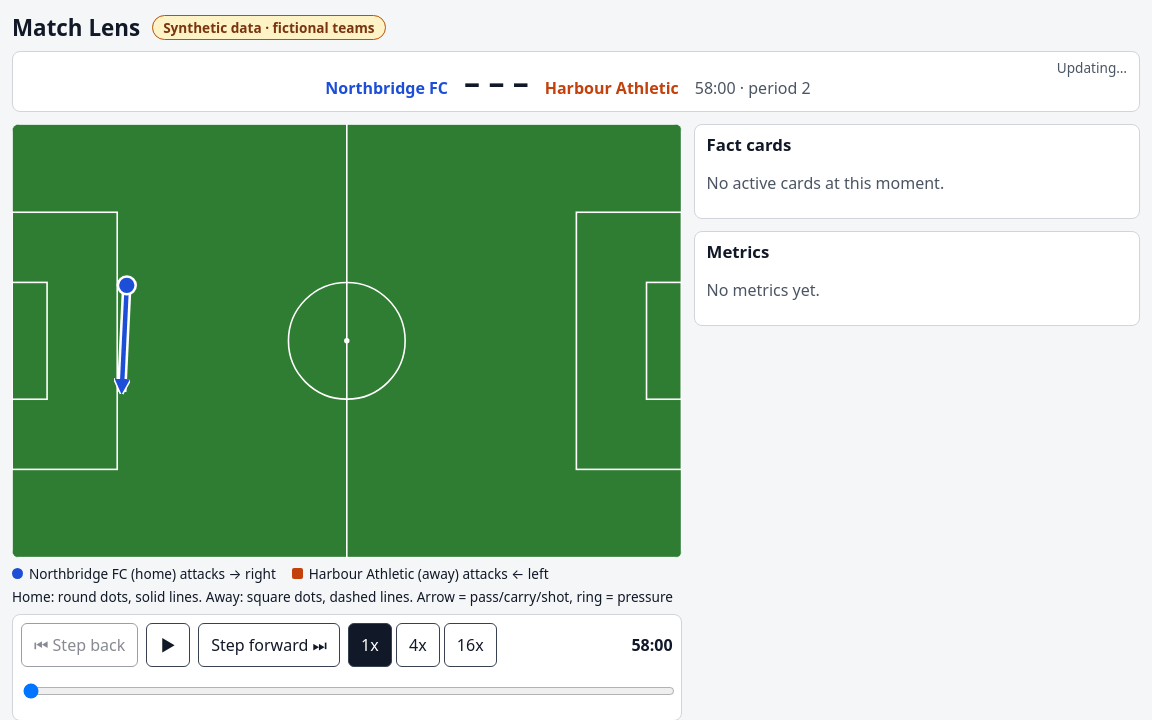
Test case: cards › renders model text as plain text
Set the slider named "Replay position" to "29" at (223, 691), box 23,675 -> 675,707
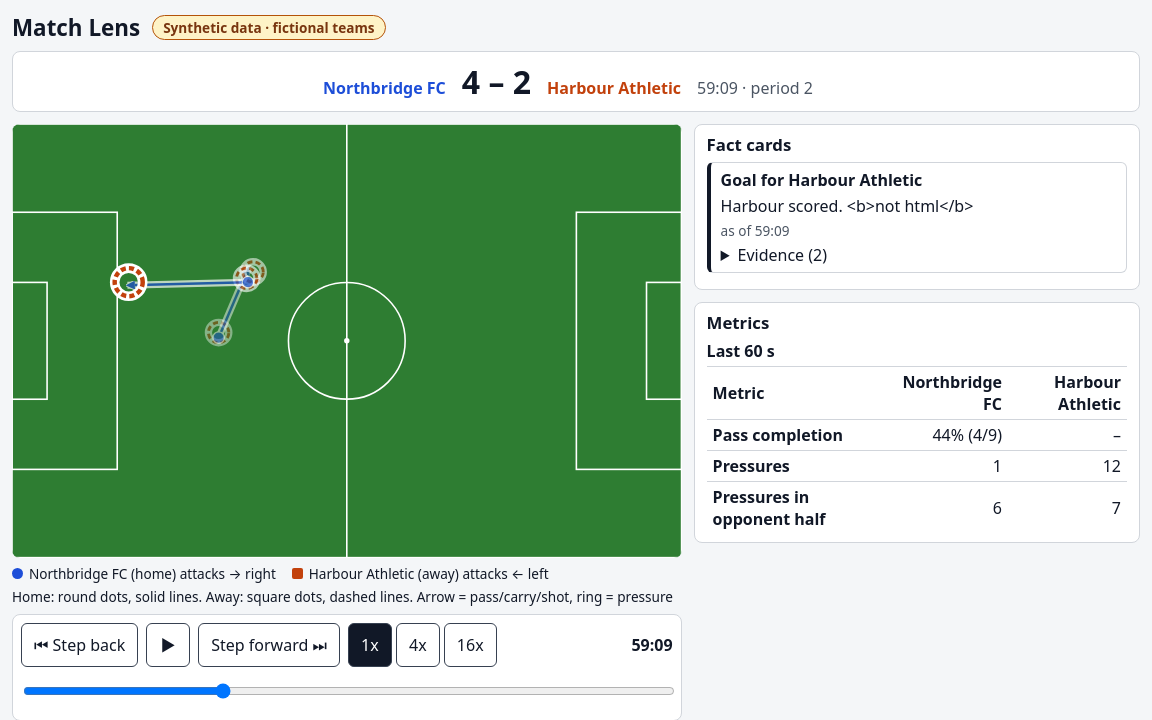
Check: the text "Harbour scored. <b>not html</b>" is shown, box 721,195 -> 973,217
Check: the text "as of 59:09" is shown, box 721,221 -> 790,240
